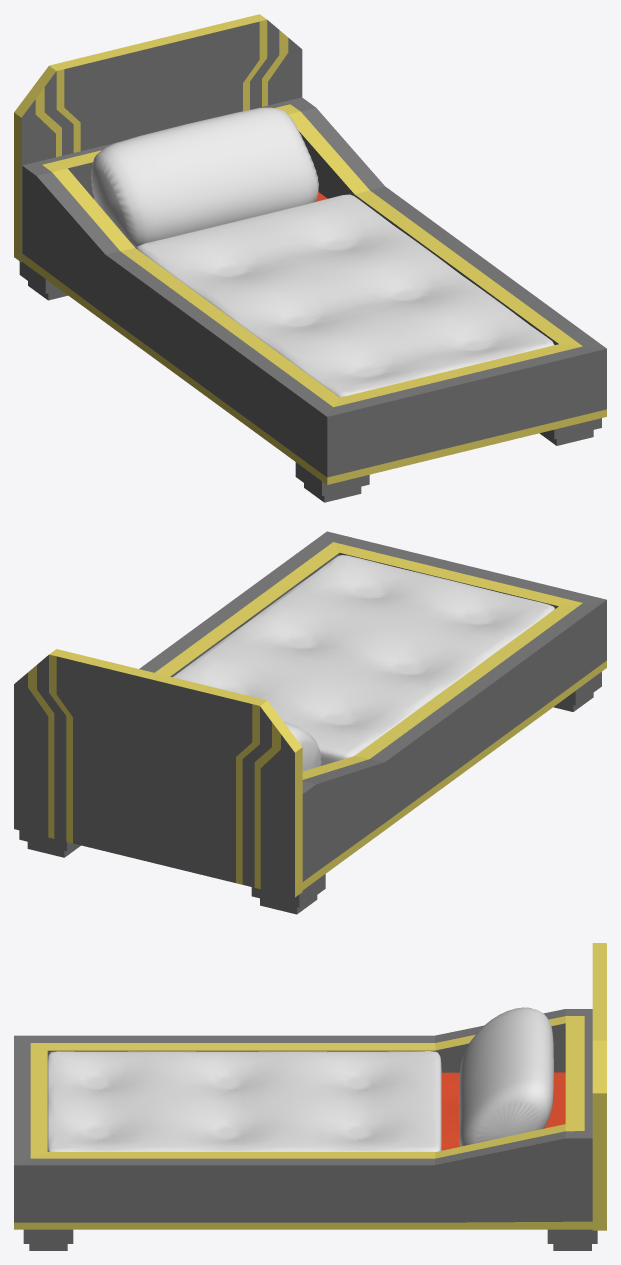
The model's file is bed_tier17.fbx.
3 views of the same model, one above another, from view 1: azimuth 30°, elevation 25°; view 2: azimuth 150°, elevation 25°; view 3: azimuth 270°, elevation 25° (orthographic). The views are drawn at different scales.
Visible parts, largest first — view 1: Cube, Cube.001, Cube.008, Cylinder.004, Cube.002, Cube.003, Cube.004; view 2: Cube.008, Cube, Cube.001, Cube.004, Cube.005, Cylinder.004, Cube.002; view 3: Cube, Cube.001, Cylinder.004, Cube.008, Cube.006, Cube.003, Cube.005.
Part boxes in pixels (x1,y1,x2,y2): Cube: [22, 97, 606, 484]; Cube.001: [136, 194, 554, 397]; Cube.008: [14, 14, 302, 262]; Cylinder.004: [91, 107, 318, 248]; Cube.002: [295, 462, 369, 502]; Cube.003: [540, 418, 601, 445]; Cube.004: [19, 261, 67, 300]; Cube.008: [14, 649, 302, 897]; Cube: [139, 531, 606, 889]; Cube.001: [173, 555, 554, 765]; Cube.004: [251, 874, 325, 914]; Cube.005: [19, 830, 80, 857]; Cylinder.004: [283, 721, 321, 771]; Cube.002: [553, 671, 601, 711]; Cube: [14, 1009, 592, 1229]; Cube.001: [47, 1051, 441, 1151]; Cylinder.004: [459, 1007, 553, 1146]; Cube.008: [592, 943, 606, 1230]; Cube.006: [441, 1072, 565, 1150]; Cube.003: [23, 1229, 73, 1250]; Cube.005: [547, 1229, 597, 1250].
Size of the model in its own units: 190 by 134 by 365.
